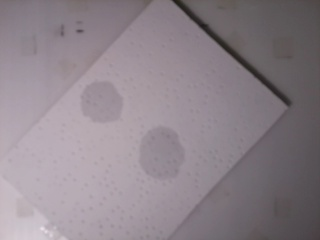Water_detected: (151, 131, 183, 177), (89, 90, 117, 115)
